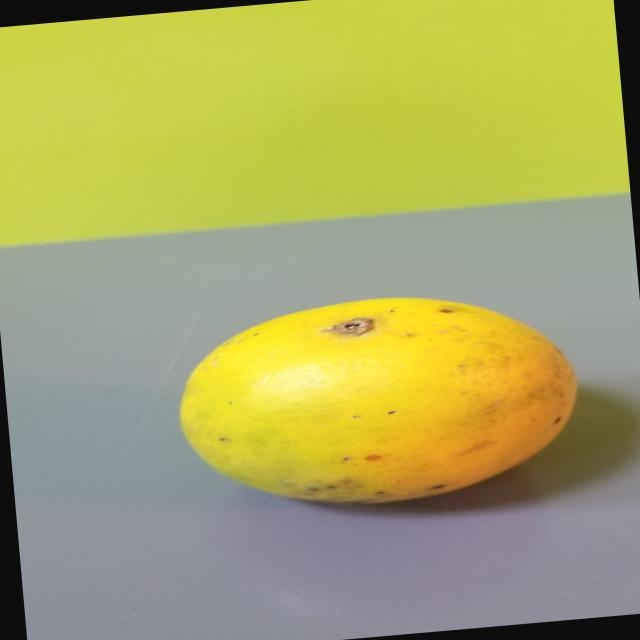agrume: (165, 271, 591, 533)
